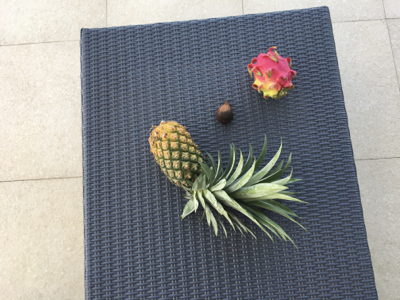dragon fruit: (247, 47, 297, 101)
pineapple: (149, 120, 307, 252)
snake fruit: (217, 102, 234, 125)
